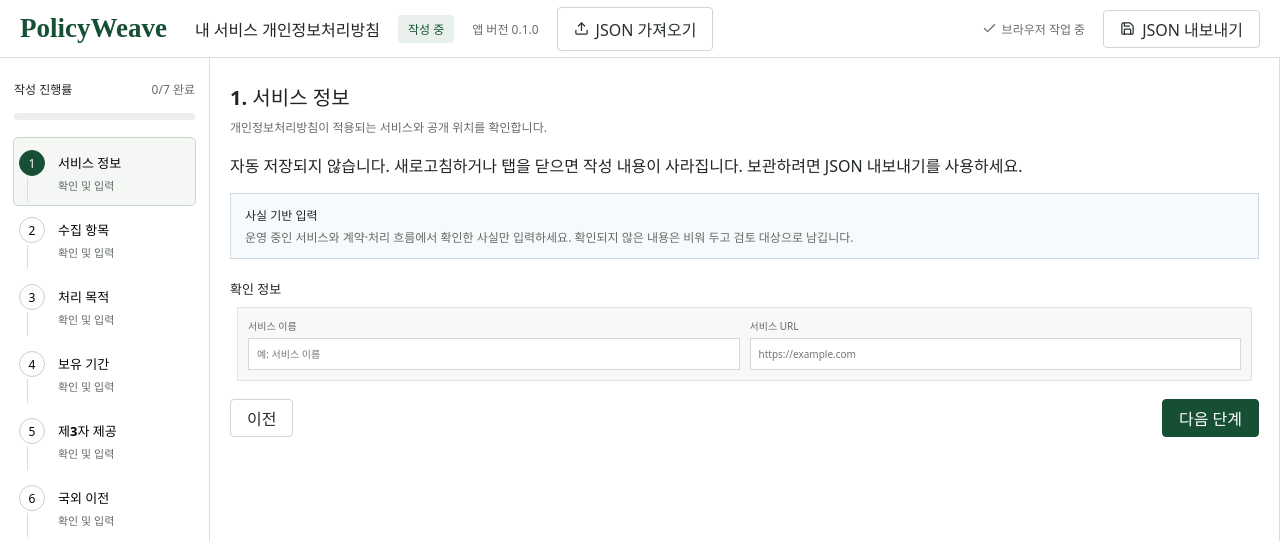
Test: policy editing workflow › 수집 경로 미확인 경고에서 수집 항목 단계로 이동한다
Click the button "2 수집 항목 확인 및 입력". click: [104, 238]
box: [14,205,195,272]
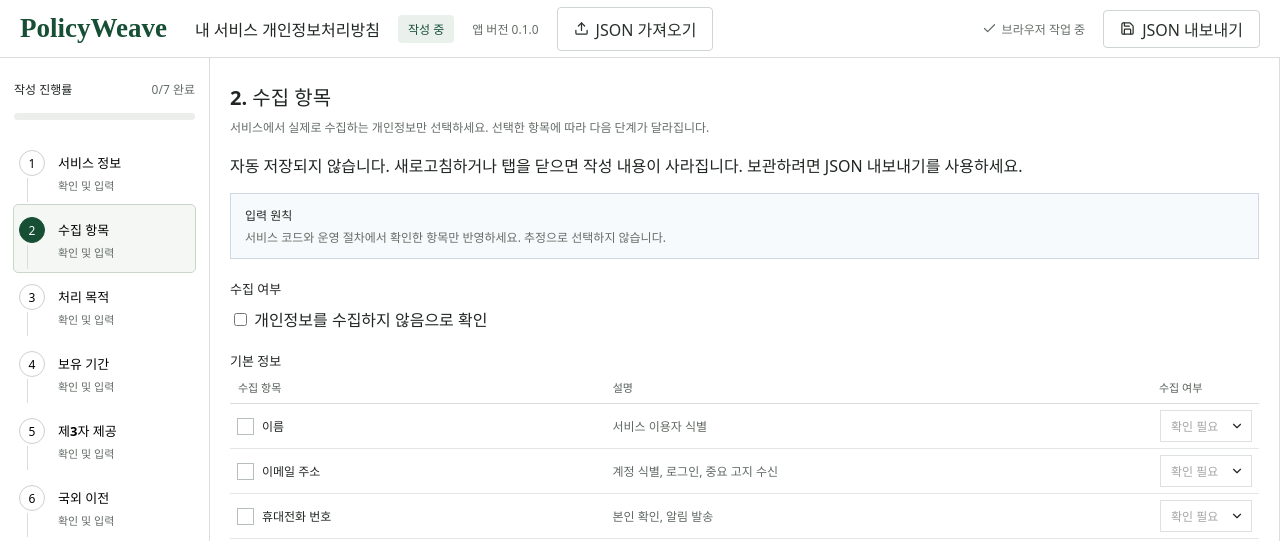
Click the checkbox labelled "휴대전화 번호". click: [284, 516]
box: [237,508,331,525]
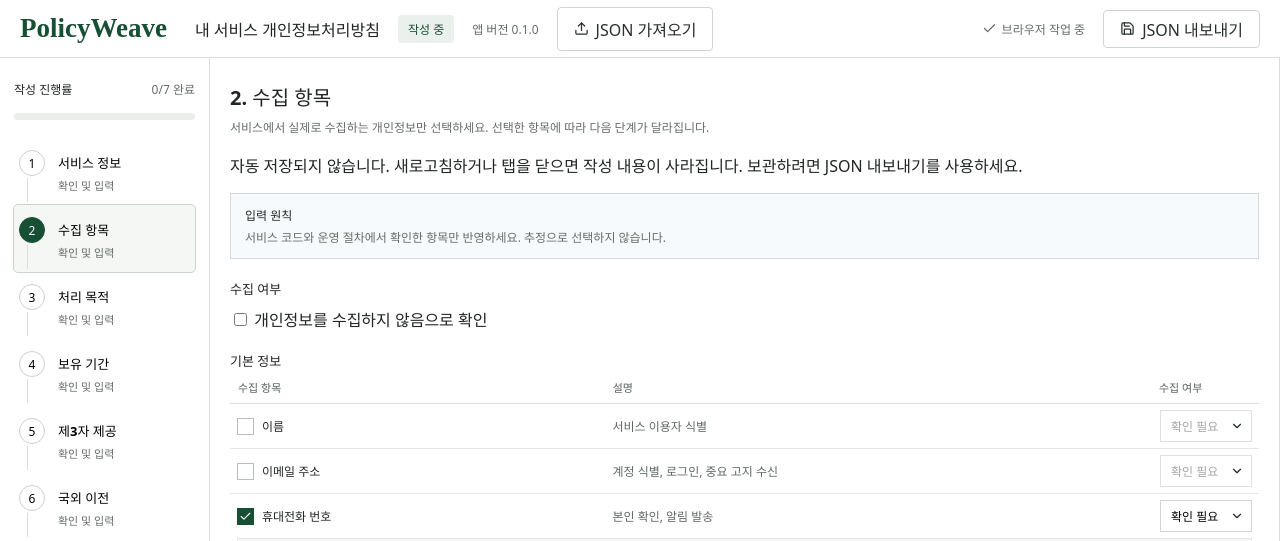
Select "필수" in the dropdown in the row of "본인 확인, 알림 발송". click: [1206, 516]
box: [1160,500,1252,532]
Click the button "3 처리 목적 확인 및 입력". click: [104, 306]
box: [14,272,195,339]
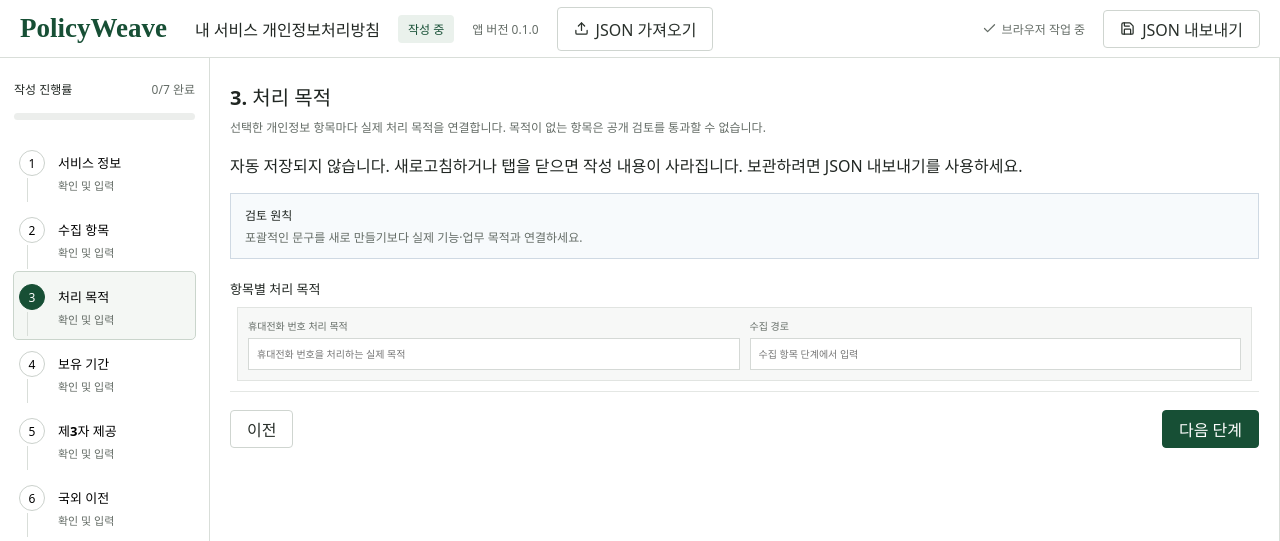
Type "본인 확인" into the field named "purpose-phone". click: [494, 354]
box: [248,338,740,370]
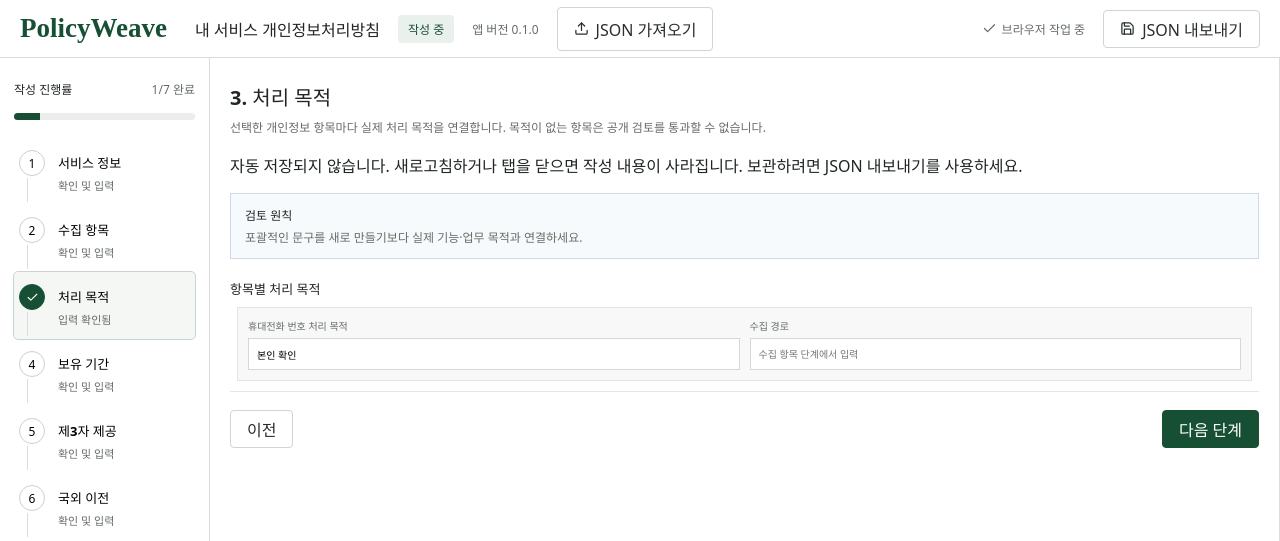
Click the button "1 서비스 정보 확인 및 입력". click: [104, 172]
box: [14,138,195,205]
(page scrolled)
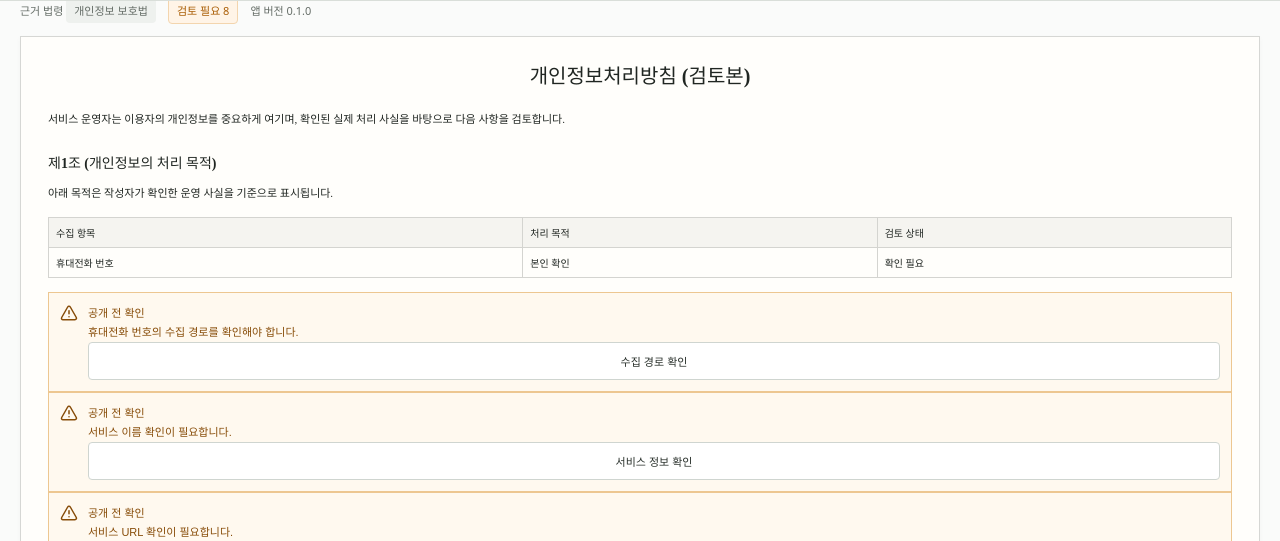
Click the button "수집 경로 확인". click: [654, 361]
box: [88,342,1220,380]
(page scrolled)
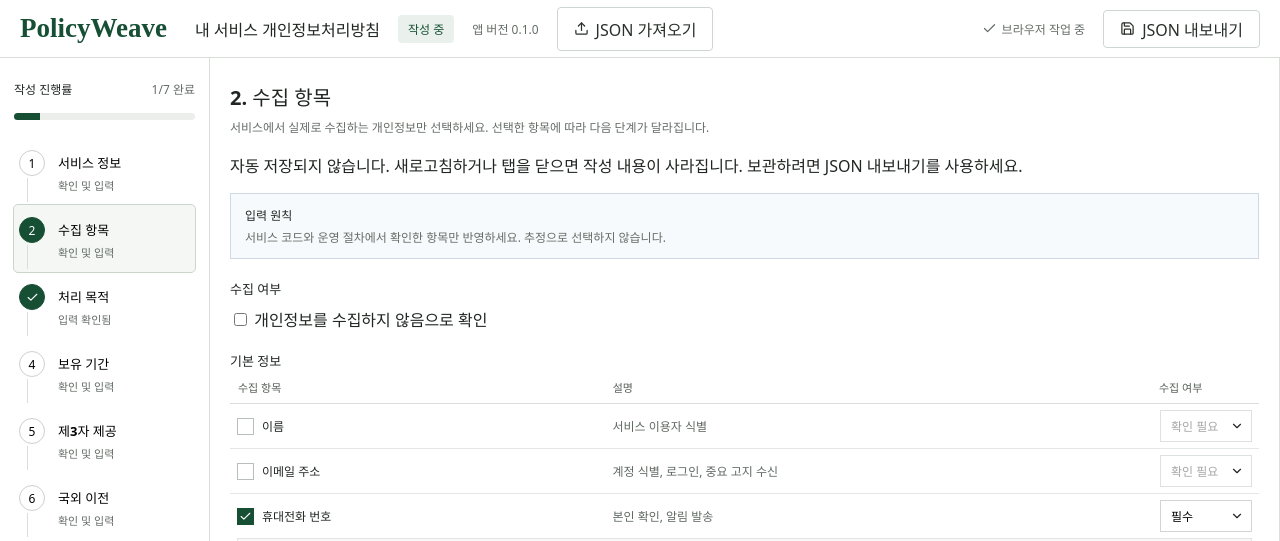
Expected: the heading "2. 수집 항목" is shown, [230,84,331,111]
